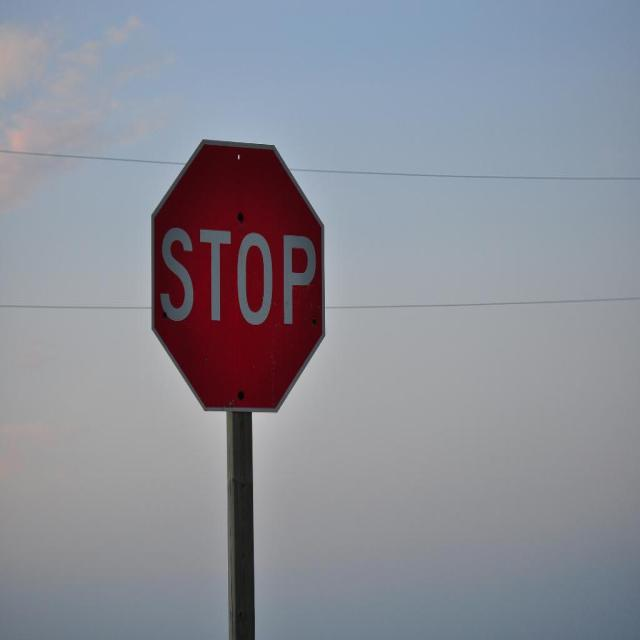Stop-sign: (151, 138, 326, 413)
